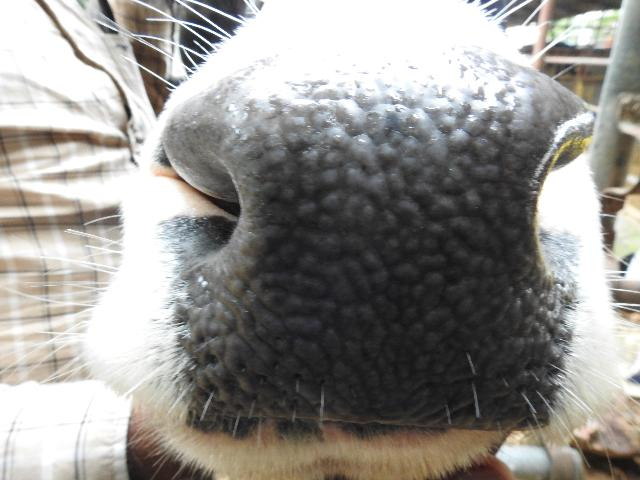Muzzle: (215, 94, 542, 420)
